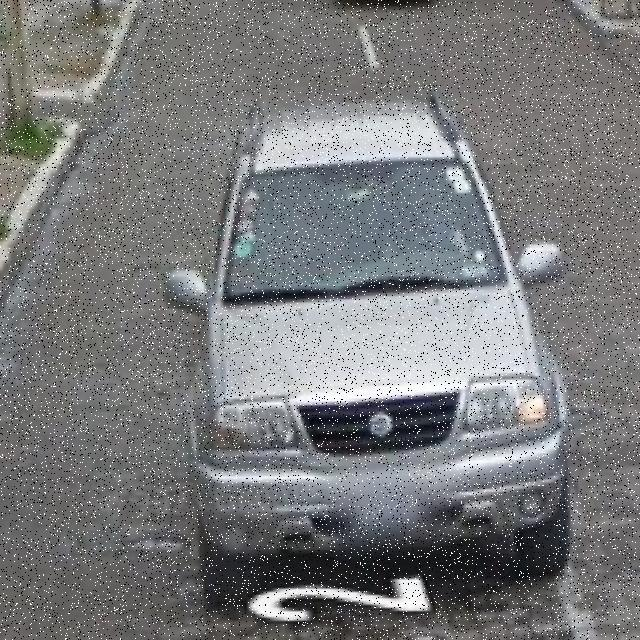cars: (152, 95, 578, 582)
